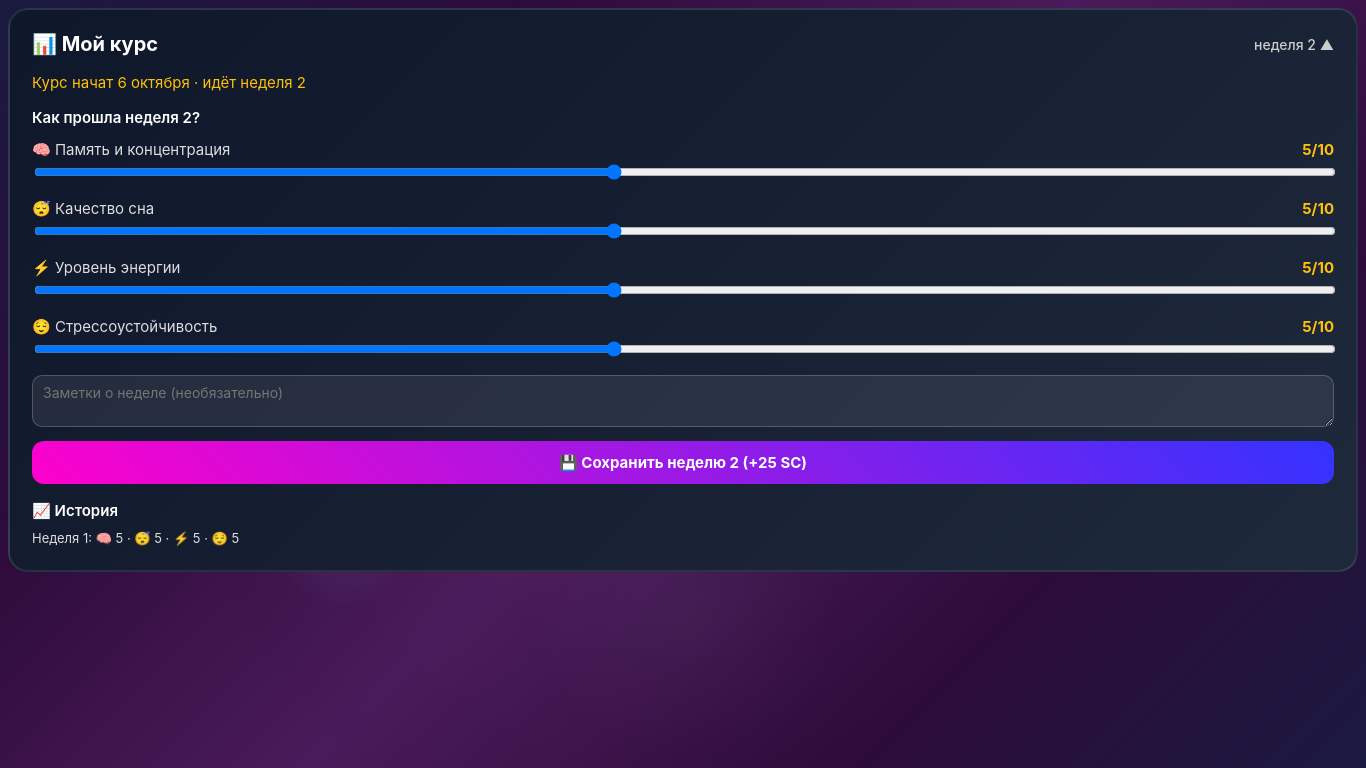
Scenario: отчёт за неделю: оценки уходят в /api/survey, +25 SC и бонус цели месяца
expect the text "Как прошла неделя 2?" is shown: met, box [32,108,200,126]
Set the slider labelled "😴 Качество сна 5/10" to "8". click: (1042, 230)
box: [34,222,1336,238]
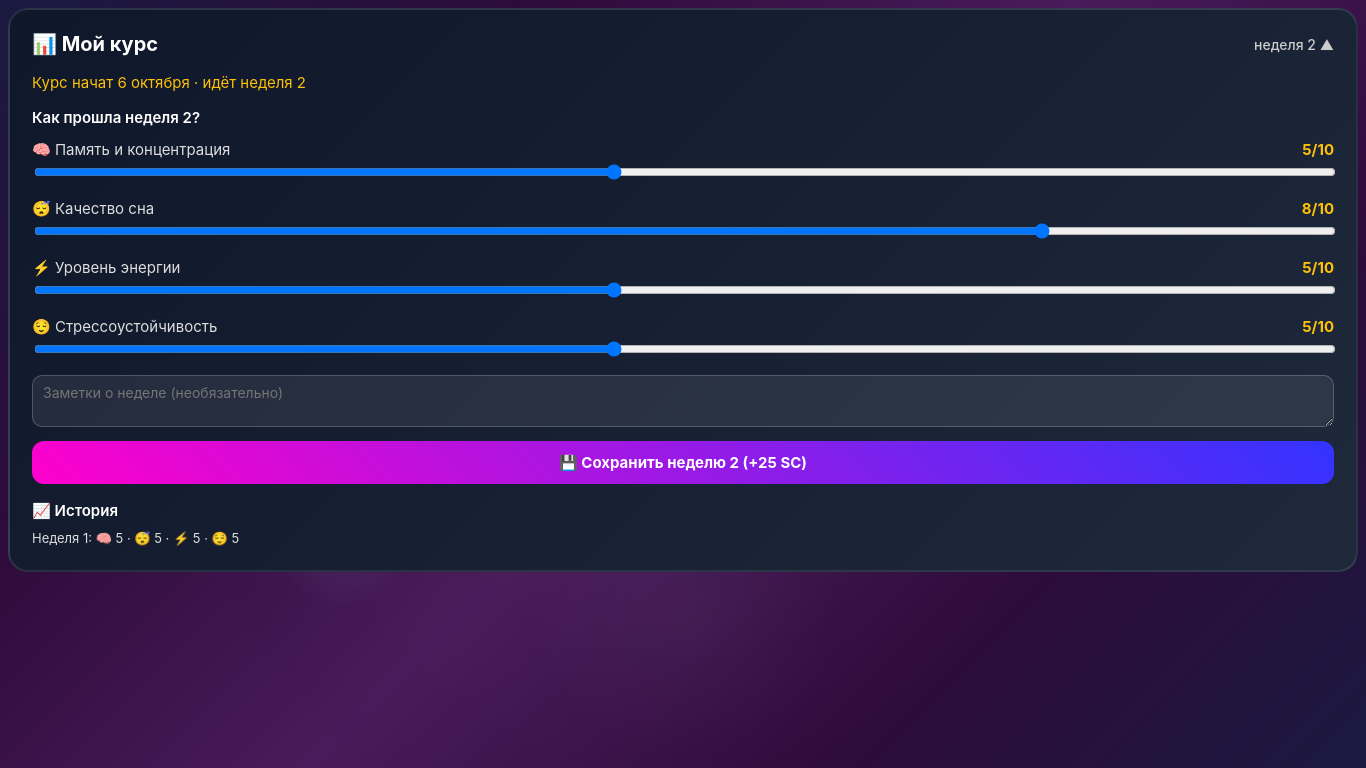
Type "сплю лучше" into the text box with placeholder "Заметки о неделе (необязательно)". click: (683, 401)
box: [32,375,1334,427]
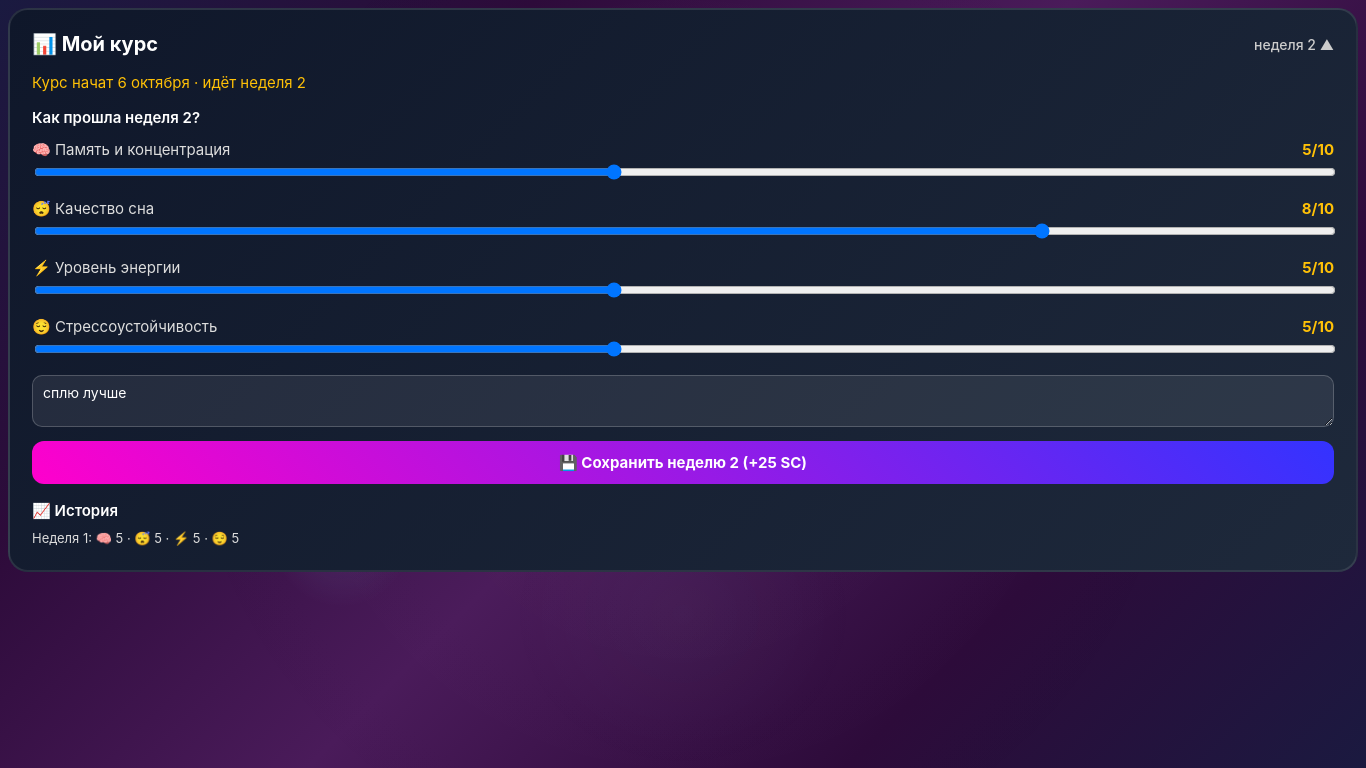
Click the button "💾 Сохранить неделю 2 (+25 SC)". click: (683, 462)
box: [32,441,1334,484]
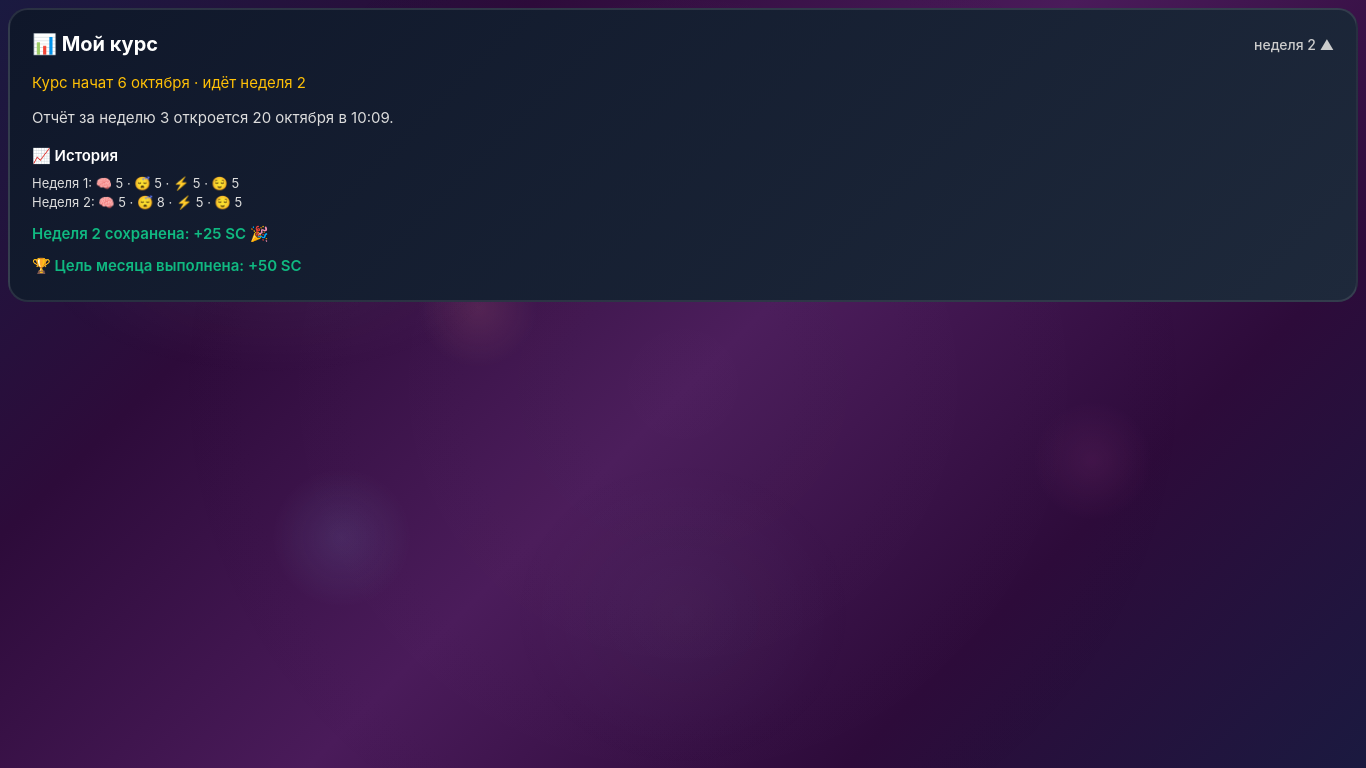
expect the text "Неделя 2 сохранена: +25 SC 🎉" is shown: met, box [32,224,269,242]
expect the text "🏆 Цель месяца выполнена: +50 SC" is shown: met, box [32,256,302,275]
